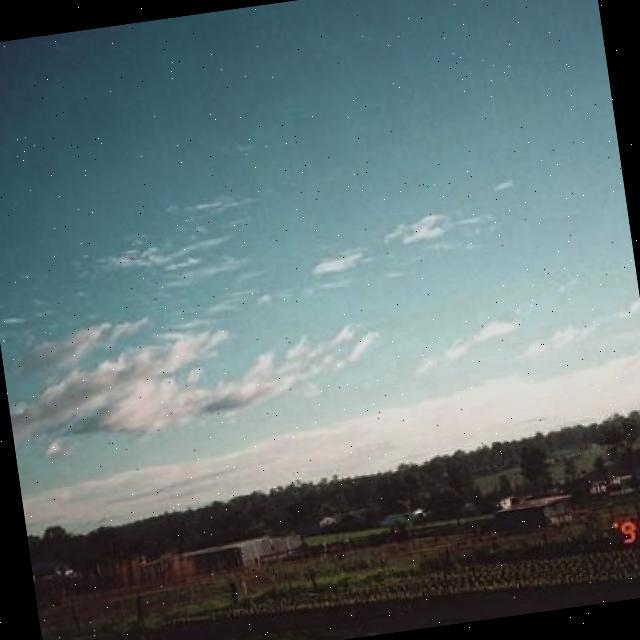Cc: (1, 108, 585, 495)
